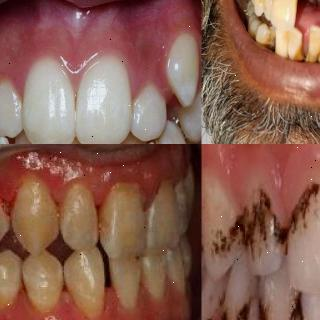calculus: (304, 47, 320, 63), (291, 40, 303, 61), (248, 27, 260, 45), (266, 35, 278, 51), (315, 50, 320, 64)
maligned: (162, 26, 202, 109), (157, 116, 195, 144), (274, 0, 300, 30), (307, 23, 320, 63), (289, 27, 305, 57)
stains: (287, 184, 320, 243), (254, 193, 278, 255), (211, 215, 248, 254), (91, 207, 109, 241), (217, 304, 249, 320), (286, 294, 305, 320), (261, 292, 273, 320), (0, 200, 14, 218)
